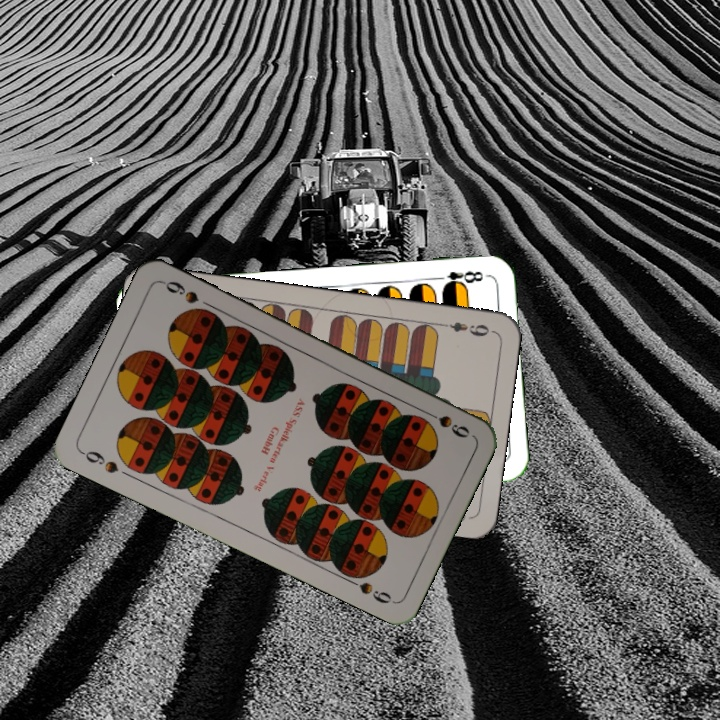E8: (430, 267, 485, 291)
E9: (436, 318, 495, 340)
S9: (418, 405, 472, 441), (77, 446, 122, 476)
